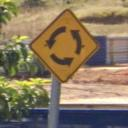Rotatoria: (28, 8, 100, 84)
